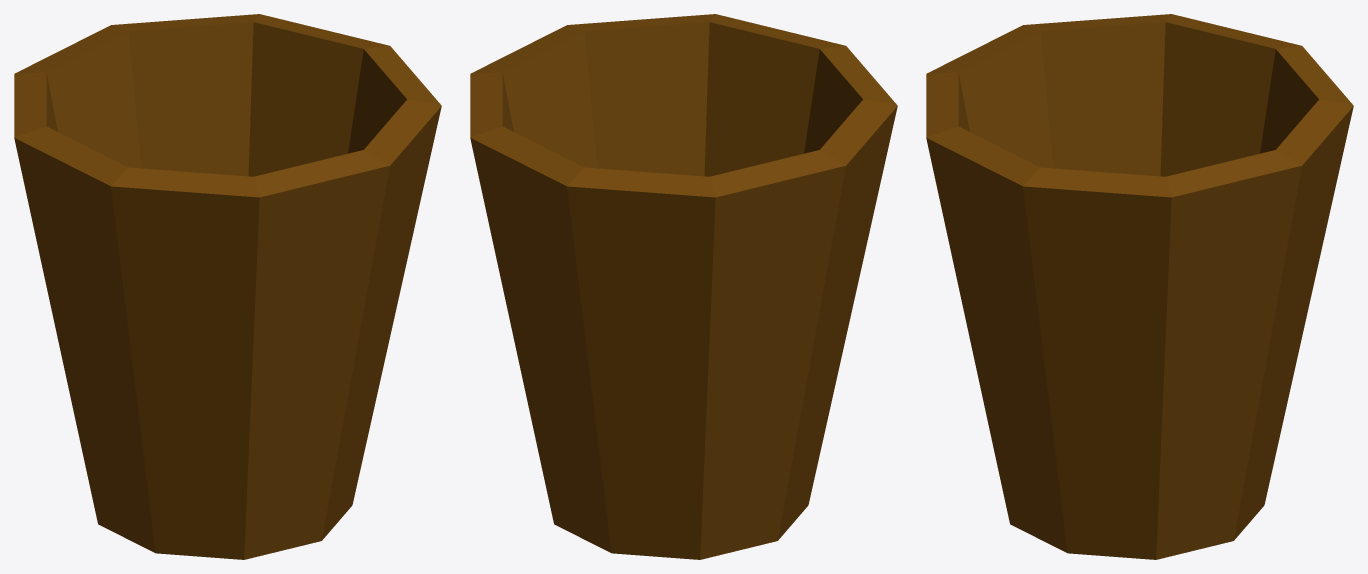
The model's file is plant-pot-empty.fbx.
3 views of the same model, side by side, from view 1: azimuth 30°, elevation 25°; view 2: azimuth 150°, elevation 25°; view 3: azimuth 270°, elevation 25° (orthographic).
Parts seen in each view (by area): view 1: plant-pot-empty; view 2: plant-pot-empty; view 3: plant-pot-empty.
Boxes of the visible parts, x1=… form: plant-pot-empty: x1=14, y1=14, x2=441, y2=559; plant-pot-empty: x1=470, y1=14, x2=897, y2=559; plant-pot-empty: x1=926, y1=14, x2=1353, y2=559.
Bounding box in the file's own units: 197 × 203 × 194.
